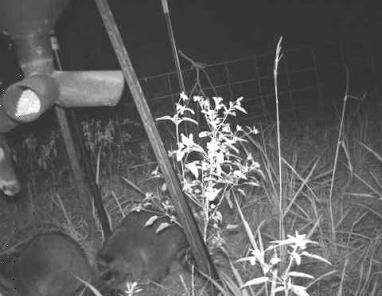Deer: (0, 75, 24, 295)
